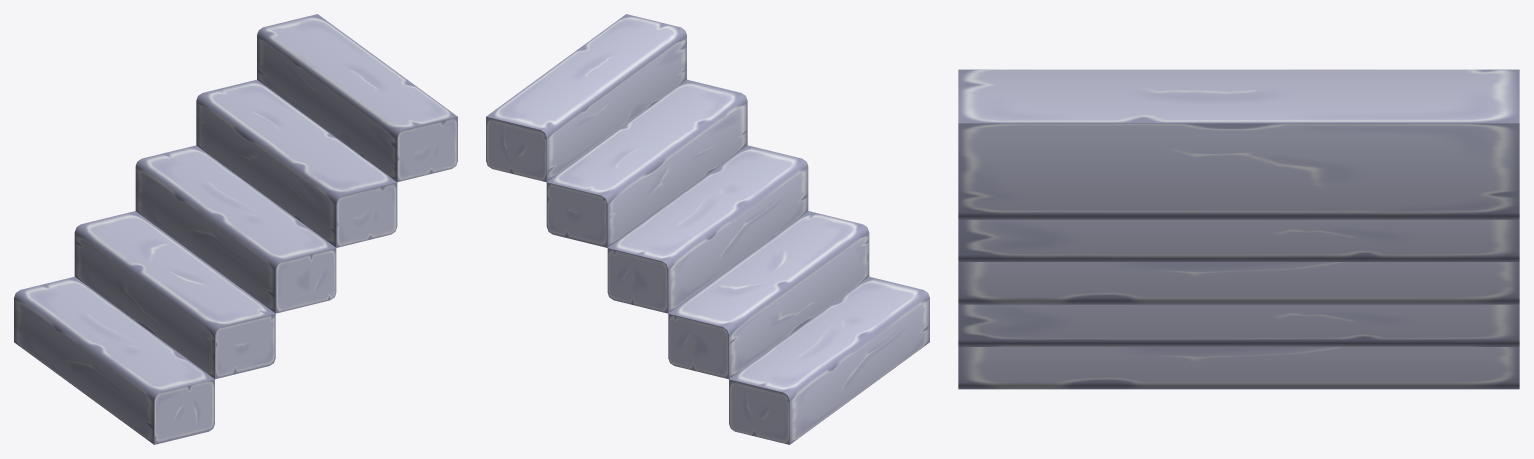
File: SM_Stairs.fbx
The picture shows the model from 3 angles, left to right: view 1: azimuth 30°, elevation 25°; view 2: azimuth 150°, elevation 25°; view 3: azimuth 270°, elevation 25°; orthographic projection. The views are drawn at different scales.
Visible parts, largest first — view 1: SM_Stairs; view 2: SM_Stairs; view 3: SM_Stairs.
Boxes of the visible parts, left/top/right/bottom form: SM_Stairs: left=14, top=14, right=457, bottom=444; SM_Stairs: left=486, top=14, right=929, bottom=444; SM_Stairs: left=958, top=69, right=1519, bottom=389.
Bounding box in the file's own units: 2.5 × 2 × 2.
